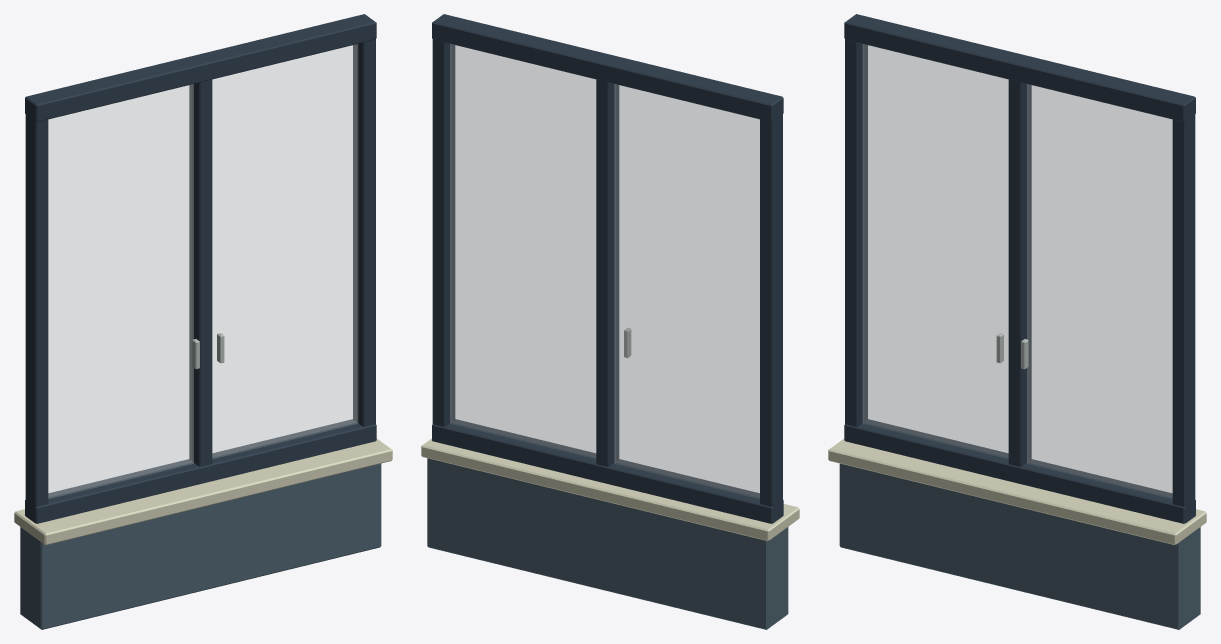
Rendered from window_section.glb.
The picture shows the model from 3 angles, left to right: view 1: azimuth 30°, elevation 25°; view 2: azimuth 150°, elevation 25°; view 3: azimuth 330°, elevation 25°; orthographic projection.
Parts seen in each view (by area): view 1: window_section__glass, window_section__metal, window_section__wall, window_section__stone; view 2: window_section__glass, window_section__metal, window_section__wall, window_section__stone; view 3: window_section__glass, window_section__metal, window_section__wall, window_section__stone.
Part boxes in pixels (box(x1,y1,x2,y2)): window_section__glass: box(48, 44, 357, 498); window_section__metal: box(25, 14, 376, 523); window_section__wall: box(20, 463, 381, 629); window_section__stone: box(14, 438, 392, 545); window_section__glass: box(450, 44, 759, 498); window_section__metal: box(432, 14, 783, 523); window_section__wall: box(427, 458, 788, 629); window_section__stone: box(421, 438, 799, 541); window_section__glass: box(863, 44, 1172, 498); window_section__metal: box(844, 14, 1195, 523); window_section__wall: box(839, 463, 1200, 629); window_section__stone: box(828, 438, 1206, 545).
Bounding box in the file's own units: 1.84 × 2.63 × 0.29.
